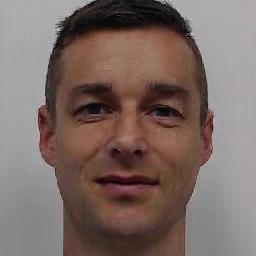no_mask: (47, 27, 210, 239)
